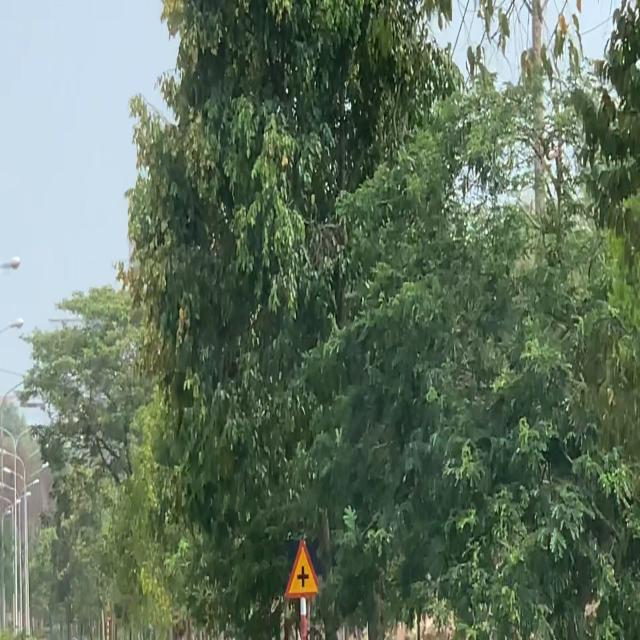Duong giao nhau: (284, 536, 322, 599)
